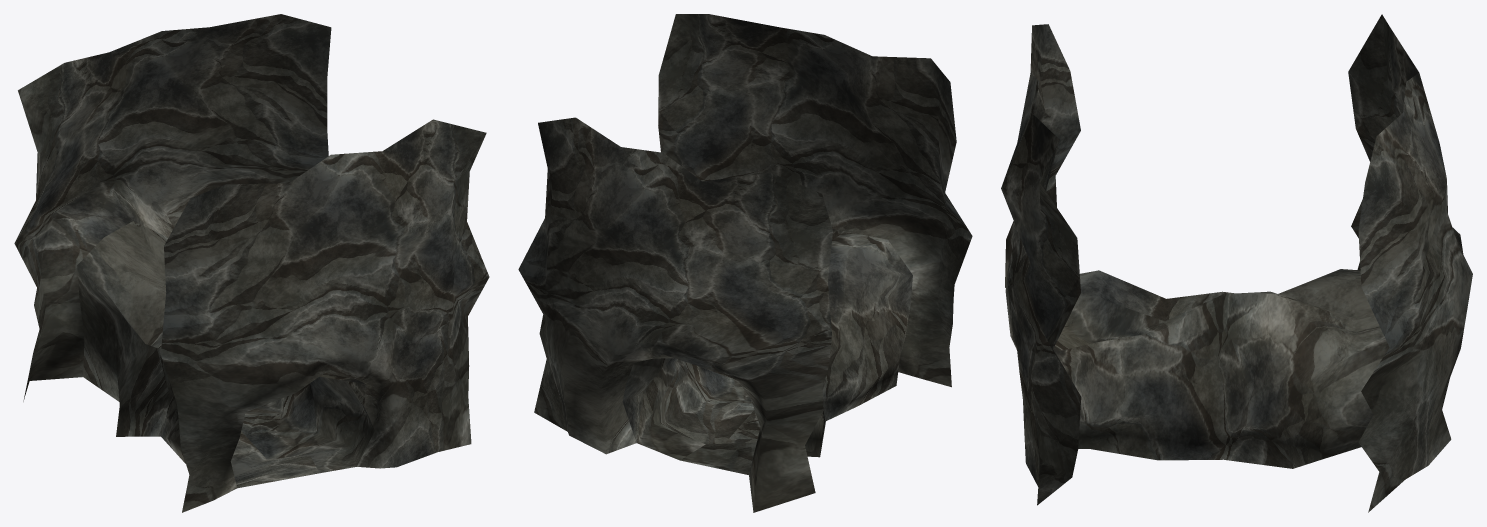
The model's file is CrawlSpace4x4To4x4.fbx.
The picture shows the model from 3 angles, left to right: view 1: azimuth 30°, elevation 25°; view 2: azimuth 150°, elevation 25°; view 3: azimuth 270°, elevation 25°; orthographic projection. The views are drawn at different scales.
Parts seen in each view (by area): view 1: CrawlSpace4x4To4x4; view 2: CrawlSpace4x4To4x4; view 3: CrawlSpace4x4To4x4.
Part boxes in pixels (x1,y1,x2,y2): CrawlSpace4x4To4x4: (14, 14, 489, 512); CrawlSpace4x4To4x4: (518, 14, 972, 512); CrawlSpace4x4To4x4: (1001, 14, 1472, 512).
Bounding box in the file's own units: 4.73 × 4.78 × 5.45.
